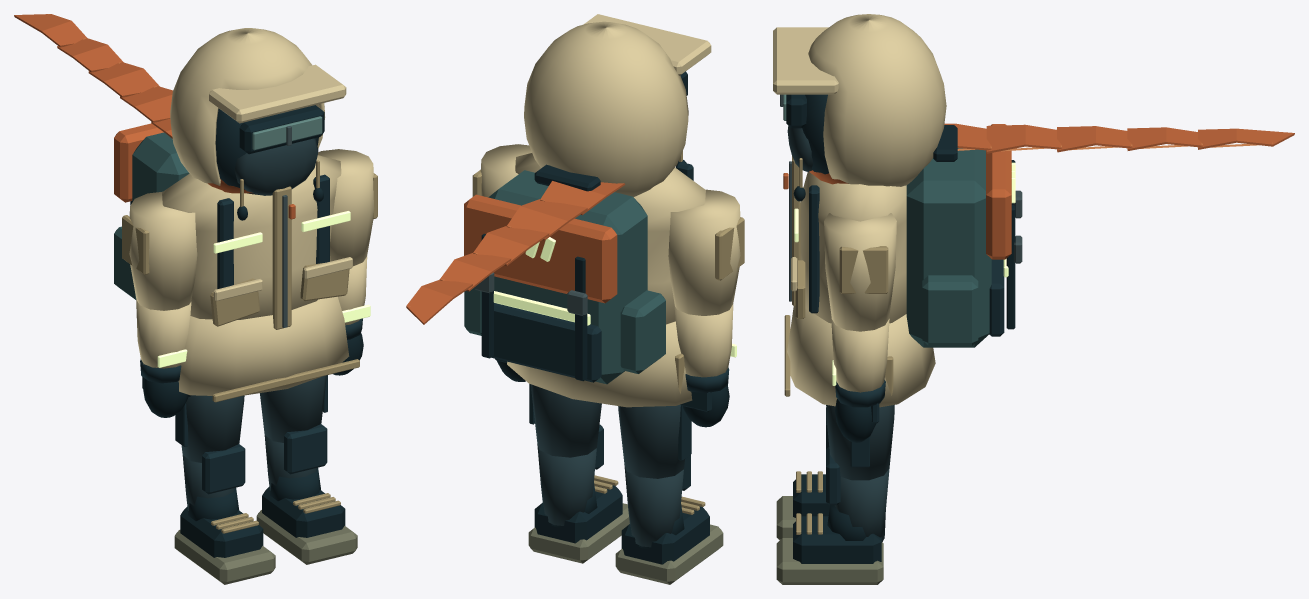
File: courier.glb
The picture shows the model from 3 angles, left to right: view 1: azimuth 30°, elevation 25°; view 2: azimuth 150°, elevation 25°; view 3: azimuth 270°, elevation 25°; orthographic projection. The views are drawn at different scales.
Visible parts, largest first — view 1: RigBody_Geometry, Head_Geometry, CoatHem_Geometry, Shoulder_L_Geometry, Foot_L_Geometry, Foot_R_Geometry, Shoulder_R_Geometry, Hip_L_Geometry, Elbow_L_Geometry, Hip_R_Geometry, Knee_R_Geometry, Knee_L_Geometry (+6 smaller); view 2: RigBody_Geometry, Head_Geometry, Shoulder_L_Geometry, CoatHem_Geometry, Foot_L_Geometry, Foot_R_Geometry, Hip_L_Geometry, Hip_R_Geometry, Elbow_L_Geometry, Knee_R_Geometry, Knee_L_Geometry, Shoulder_R_Geometry (+6 smaller); view 3: RigBody_Geometry, Head_Geometry, Shoulder_R_Geometry, CoatHem_Geometry, Foot_R_Geometry, Elbow_R_Geometry, Hip_R_Geometry, Knee_R_Geometry, Foot_L_Geometry, Scarf_1_Geometry, Scarf_2_Geometry, Scarf_4_Geometry (+3 smaller).
Boxes of the visible parts, x1,y1,x2,y2 form: RigBody_Geometry: (114, 123, 352, 329); Head_Geometry: (170, 28, 346, 220); CoatHem_Geometry: (178, 296, 359, 402); Shoulder_L_Geometry: (122, 191, 197, 310); Foot_L_Geometry: (174, 487, 275, 584); Foot_R_Geometry: (256, 467, 357, 564); Shoulder_R_Geometry: (318, 149, 377, 266); Hip_L_Geometry: (175, 395, 244, 462); Elbow_L_Geometry: (136, 300, 191, 383); Hip_R_Geometry: (260, 375, 327, 442); Knee_R_Geometry: (264, 424, 327, 490); Knee_L_Geometry: (182, 444, 245, 510); RigBody_Geometry: (464, 153, 705, 384); Head_Geometry: (524, 14, 711, 197); Shoulder_L_Geometry: (668, 189, 744, 315); CoatHem_Geometry: (507, 321, 692, 407); Foot_L_Geometry: (615, 496, 723, 584); Foot_R_Geometry: (528, 475, 629, 563); Hip_L_Geometry: (618, 404, 691, 478); Hip_R_Geometry: (529, 384, 601, 457); Elbow_L_Geometry: (674, 304, 736, 392); Knee_R_Geometry: (537, 424, 603, 525); Knee_L_Geometry: (624, 454, 690, 547); Shoulder_R_Geometry: (472, 144, 531, 197); RigBody_Geometry: (783, 124, 1022, 347); Head_Geometry: (773, 14, 946, 201); Shoulder_R_Geometry: (824, 213, 896, 331); CoatHem_Geometry: (784, 306, 935, 407); Foot_R_Geometry: (776, 505, 883, 584); Elbow_R_Geometry: (831, 318, 889, 407); Hip_R_Geometry: (826, 405, 894, 480); Knee_R_Geometry: (826, 447, 889, 541); Foot_L_Geometry: (776, 471, 829, 540); Scarf_1_Geometry: (986, 124, 1062, 153); Scarf_2_Geometry: (1057, 126, 1132, 152); Scarf_4_Geometry: (1198, 128, 1294, 149).
Size of the model in its own units: 1.2 by 2.42 by 2.15.
